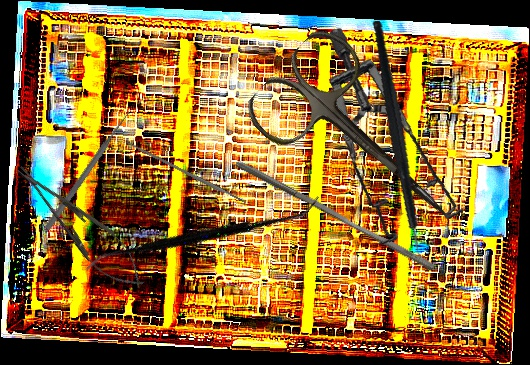Chopper: (330, 19, 478, 270)
Iris Scissors: (238, 20, 489, 265)
Needle Holder: (6, 153, 155, 300)
Pusher: (230, 158, 440, 273), (43, 109, 133, 232)
Scalpel Handle: (124, 139, 248, 206)
Spatula Surgical: (83, 115, 321, 352)
Speculum: (298, 26, 489, 257)
